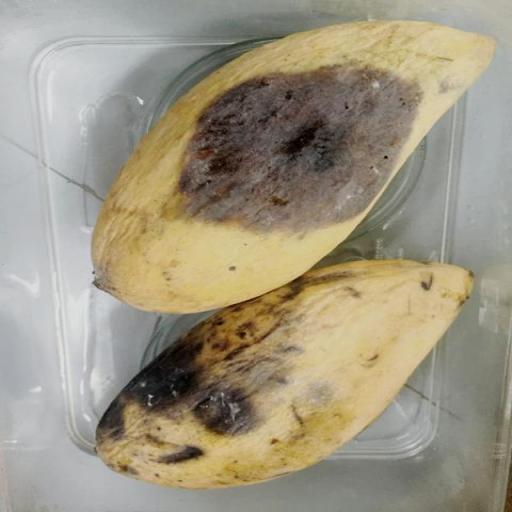mango-overripe: (57, 4, 501, 488)
